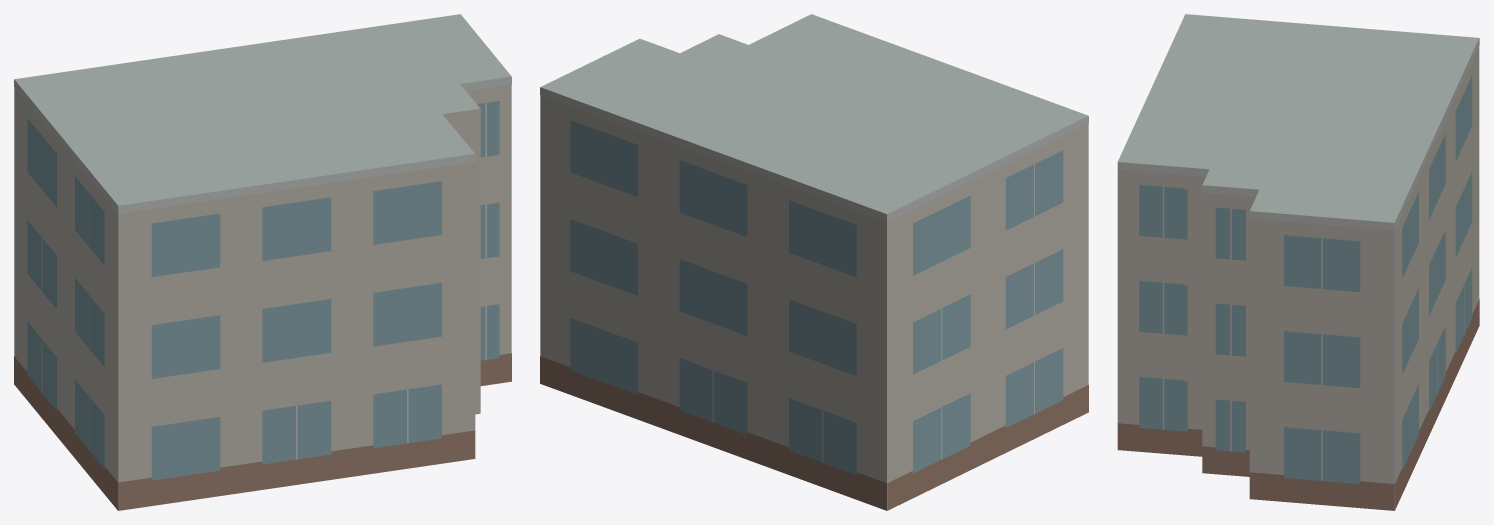
The model's file is survey-upis-33039889.glb.
The picture shows the model from 3 angles, left to right: view 1: azimuth 30°, elevation 25°; view 2: azimuth 150°, elevation 25°; view 3: azimuth 270°, elevation 25°; orthographic projection. The views are drawn at different scales.
Visible parts, largest first — view 1: survey-upis-33039889.tmp; view 2: survey-upis-33039889.tmp; view 3: survey-upis-33039889.tmp.
Boxes of the visible parts, x1=… form: survey-upis-33039889.tmp: x1=14, y1=14, x2=511, y2=510; survey-upis-33039889.tmp: x1=540, y1=14, x2=1088, y2=510; survey-upis-33039889.tmp: x1=1117, y1=14, x2=1479, y2=510.
Bounding box in the file's own units: 14.24 × 9.15 × 10.43.
